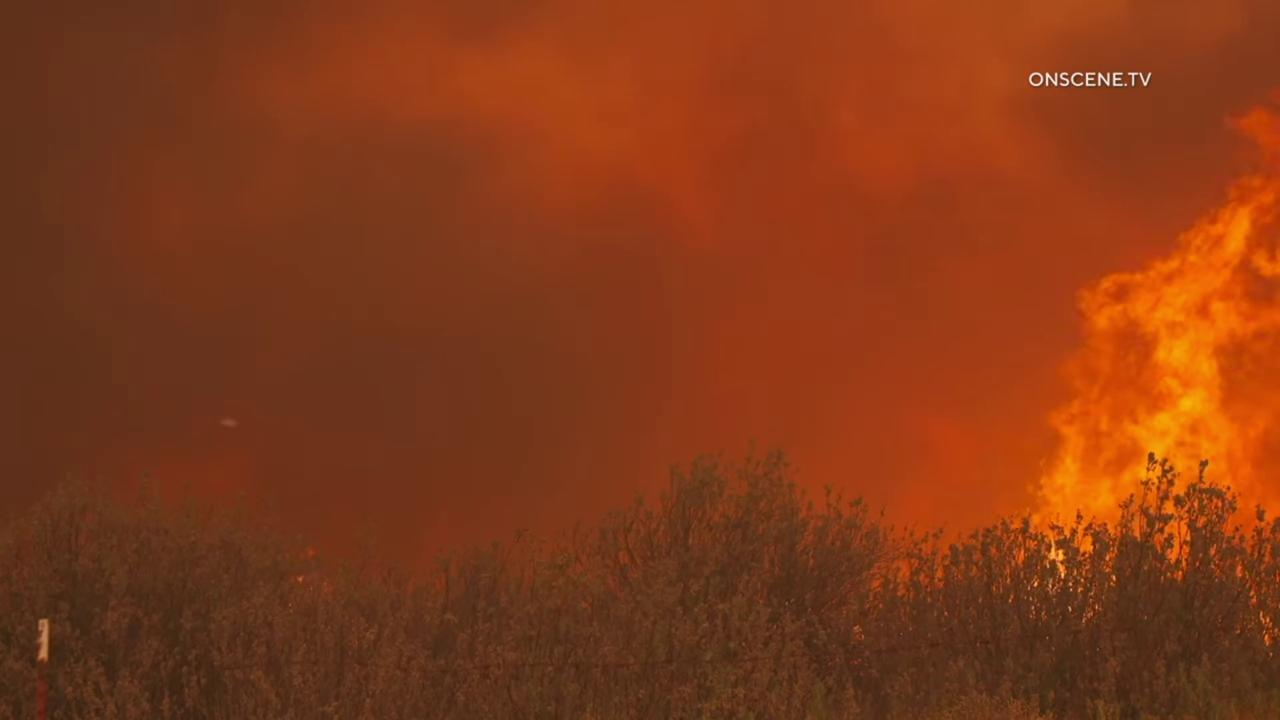fire: (1014, 82, 1280, 659)
smoke: (0, 0, 1280, 665)
